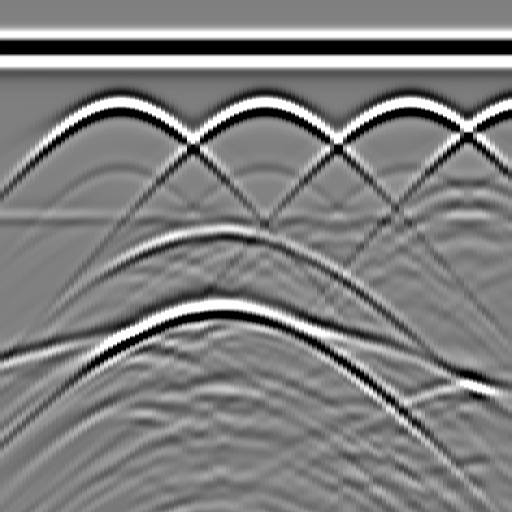grout_surface: (1, 204, 512, 234)
rebar: (98, 86, 138, 126), (243, 86, 283, 126), (387, 86, 427, 126), (502, 86, 512, 126)
rock_surface: (1, 316, 511, 389)
water_void: (189, 207, 249, 247)
